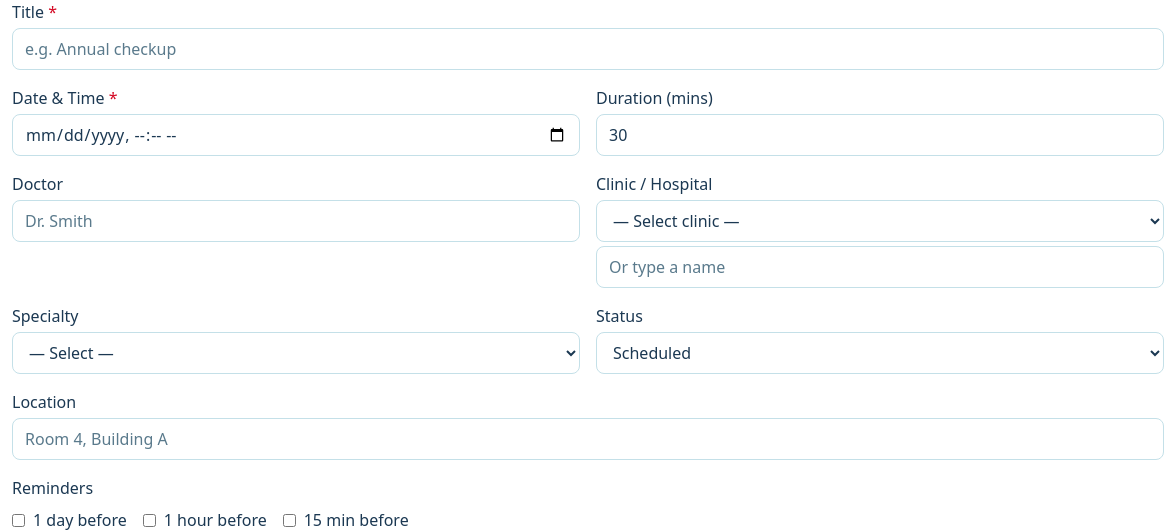
Test: AppointmentForm › shows error when date is empty on submit
Step 1. Type "My appointment" into the field labelled "Title *" → [588, 49], box [12,28,1164,70]
(page scrolled)
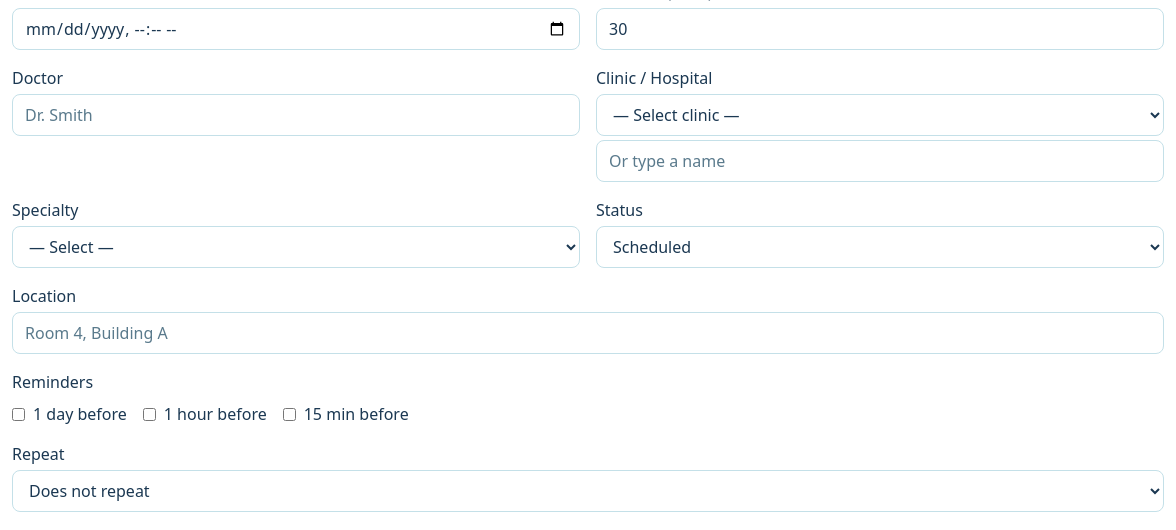
Step 2. Submit the form
(page scrolled)
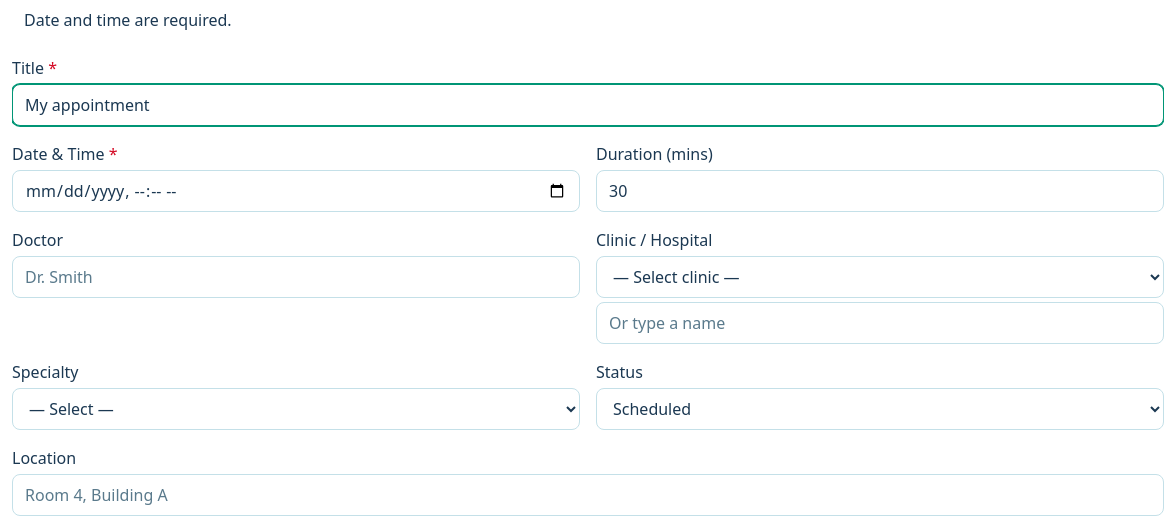
Now the text "Date and time are required." is shown, box [24,9,232,31]
